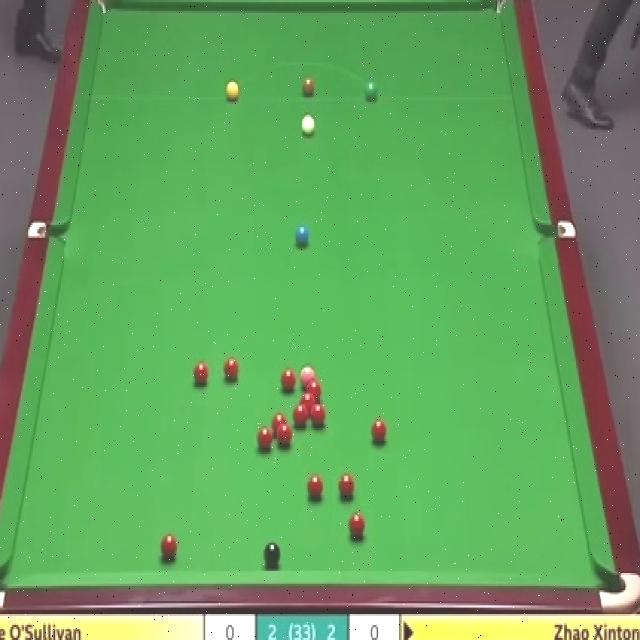black-ball: (262, 539, 281, 565)
blue-ball: (295, 226, 310, 244)
brown-ball: (302, 77, 314, 97)
green-ball: (363, 78, 379, 102)
pink-ball: (295, 367, 314, 383)
red-ball: (370, 415, 387, 444), (160, 535, 177, 564), (277, 420, 294, 446), (292, 404, 309, 428), (192, 361, 208, 386), (348, 511, 362, 539), (222, 358, 240, 379), (309, 477, 324, 502), (337, 472, 353, 495), (298, 391, 314, 411), (258, 429, 273, 450), (310, 400, 324, 421), (282, 368, 295, 390), (306, 380, 321, 399)
white-ball: (300, 112, 316, 138)
yellow-ball: (226, 80, 239, 102)
